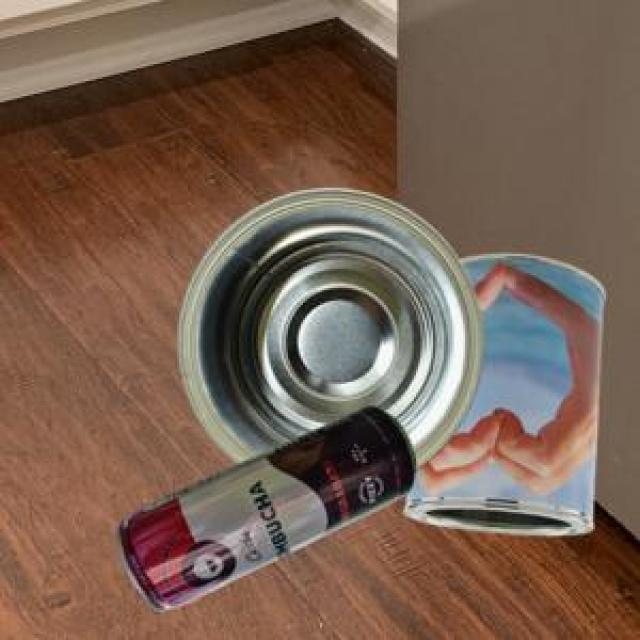Can: (174, 185, 481, 466), (114, 404, 413, 607), (402, 251, 603, 532)
